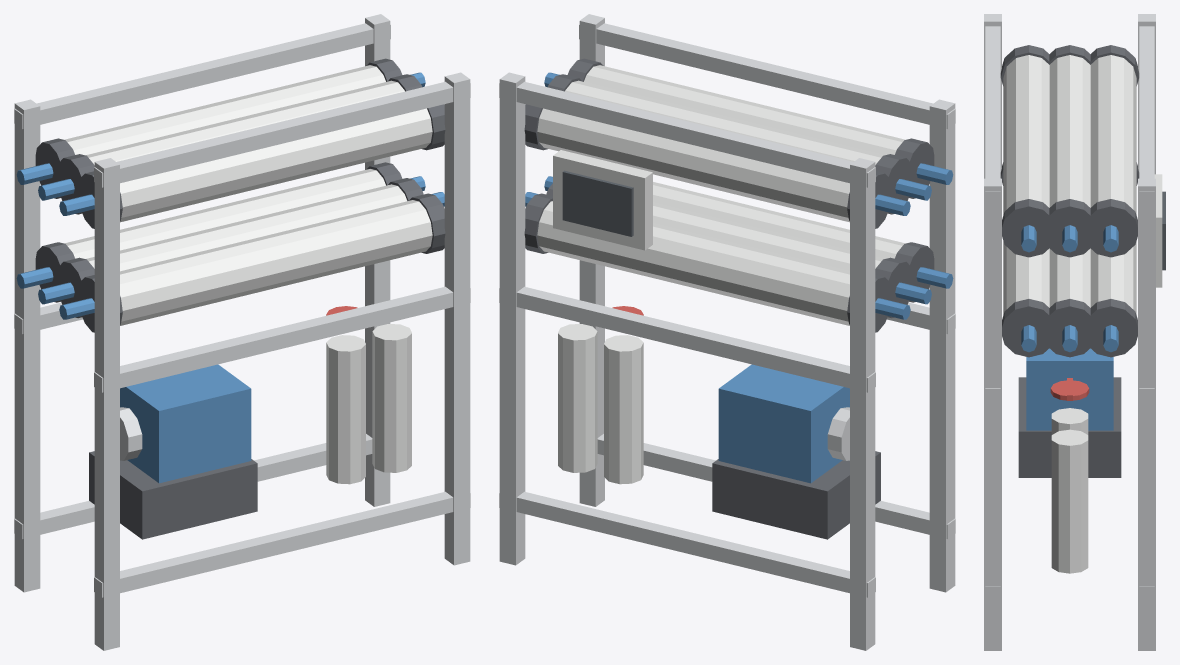
Rendered from vertical-farm-and-hydroponics-tower-vertical-farm-and--51e4d868__38370.glb.
The picture shows the model from 3 angles, left to right: view 1: azimuth 30°, elevation 25°; view 2: azimuth 150°, elevation 25°; view 3: azimuth 270°, elevation 25°; orthographic projection. The views are drawn at different scales.
Parts seen in each view (by area): view 1: vertical-farm-and-hydroponics-tower-reverse-osmosis-rack, rotor-ro/steel; view 2: vertical-farm-and-hydroponics-tower-reverse-osmosis-rack, rotor-ro/steel; view 3: vertical-farm-and-hydroponics-tower-reverse-osmosis-rack, handwheel-ro/red.
Part boxes in pixels (bbox=[...]): vertical-farm-and-hydroponics-tower-reverse-osmosis-rack: bbox=[14, 14, 470, 650]; rotor-ro/steel: bbox=[120, 407, 142, 460]; vertical-farm-and-hydroponics-tower-reverse-osmosis-rack: bbox=[499, 14, 955, 650]; rotor-ro/steel: bbox=[827, 407, 849, 460]; vertical-farm-and-hydroponics-tower-reverse-osmosis-rack: bbox=[984, 14, 1165, 650]; handwheel-ro/red: bbox=[1050, 378, 1089, 400].
Bounding box in the file's own units: 1.74 × 2 × 0.709.
